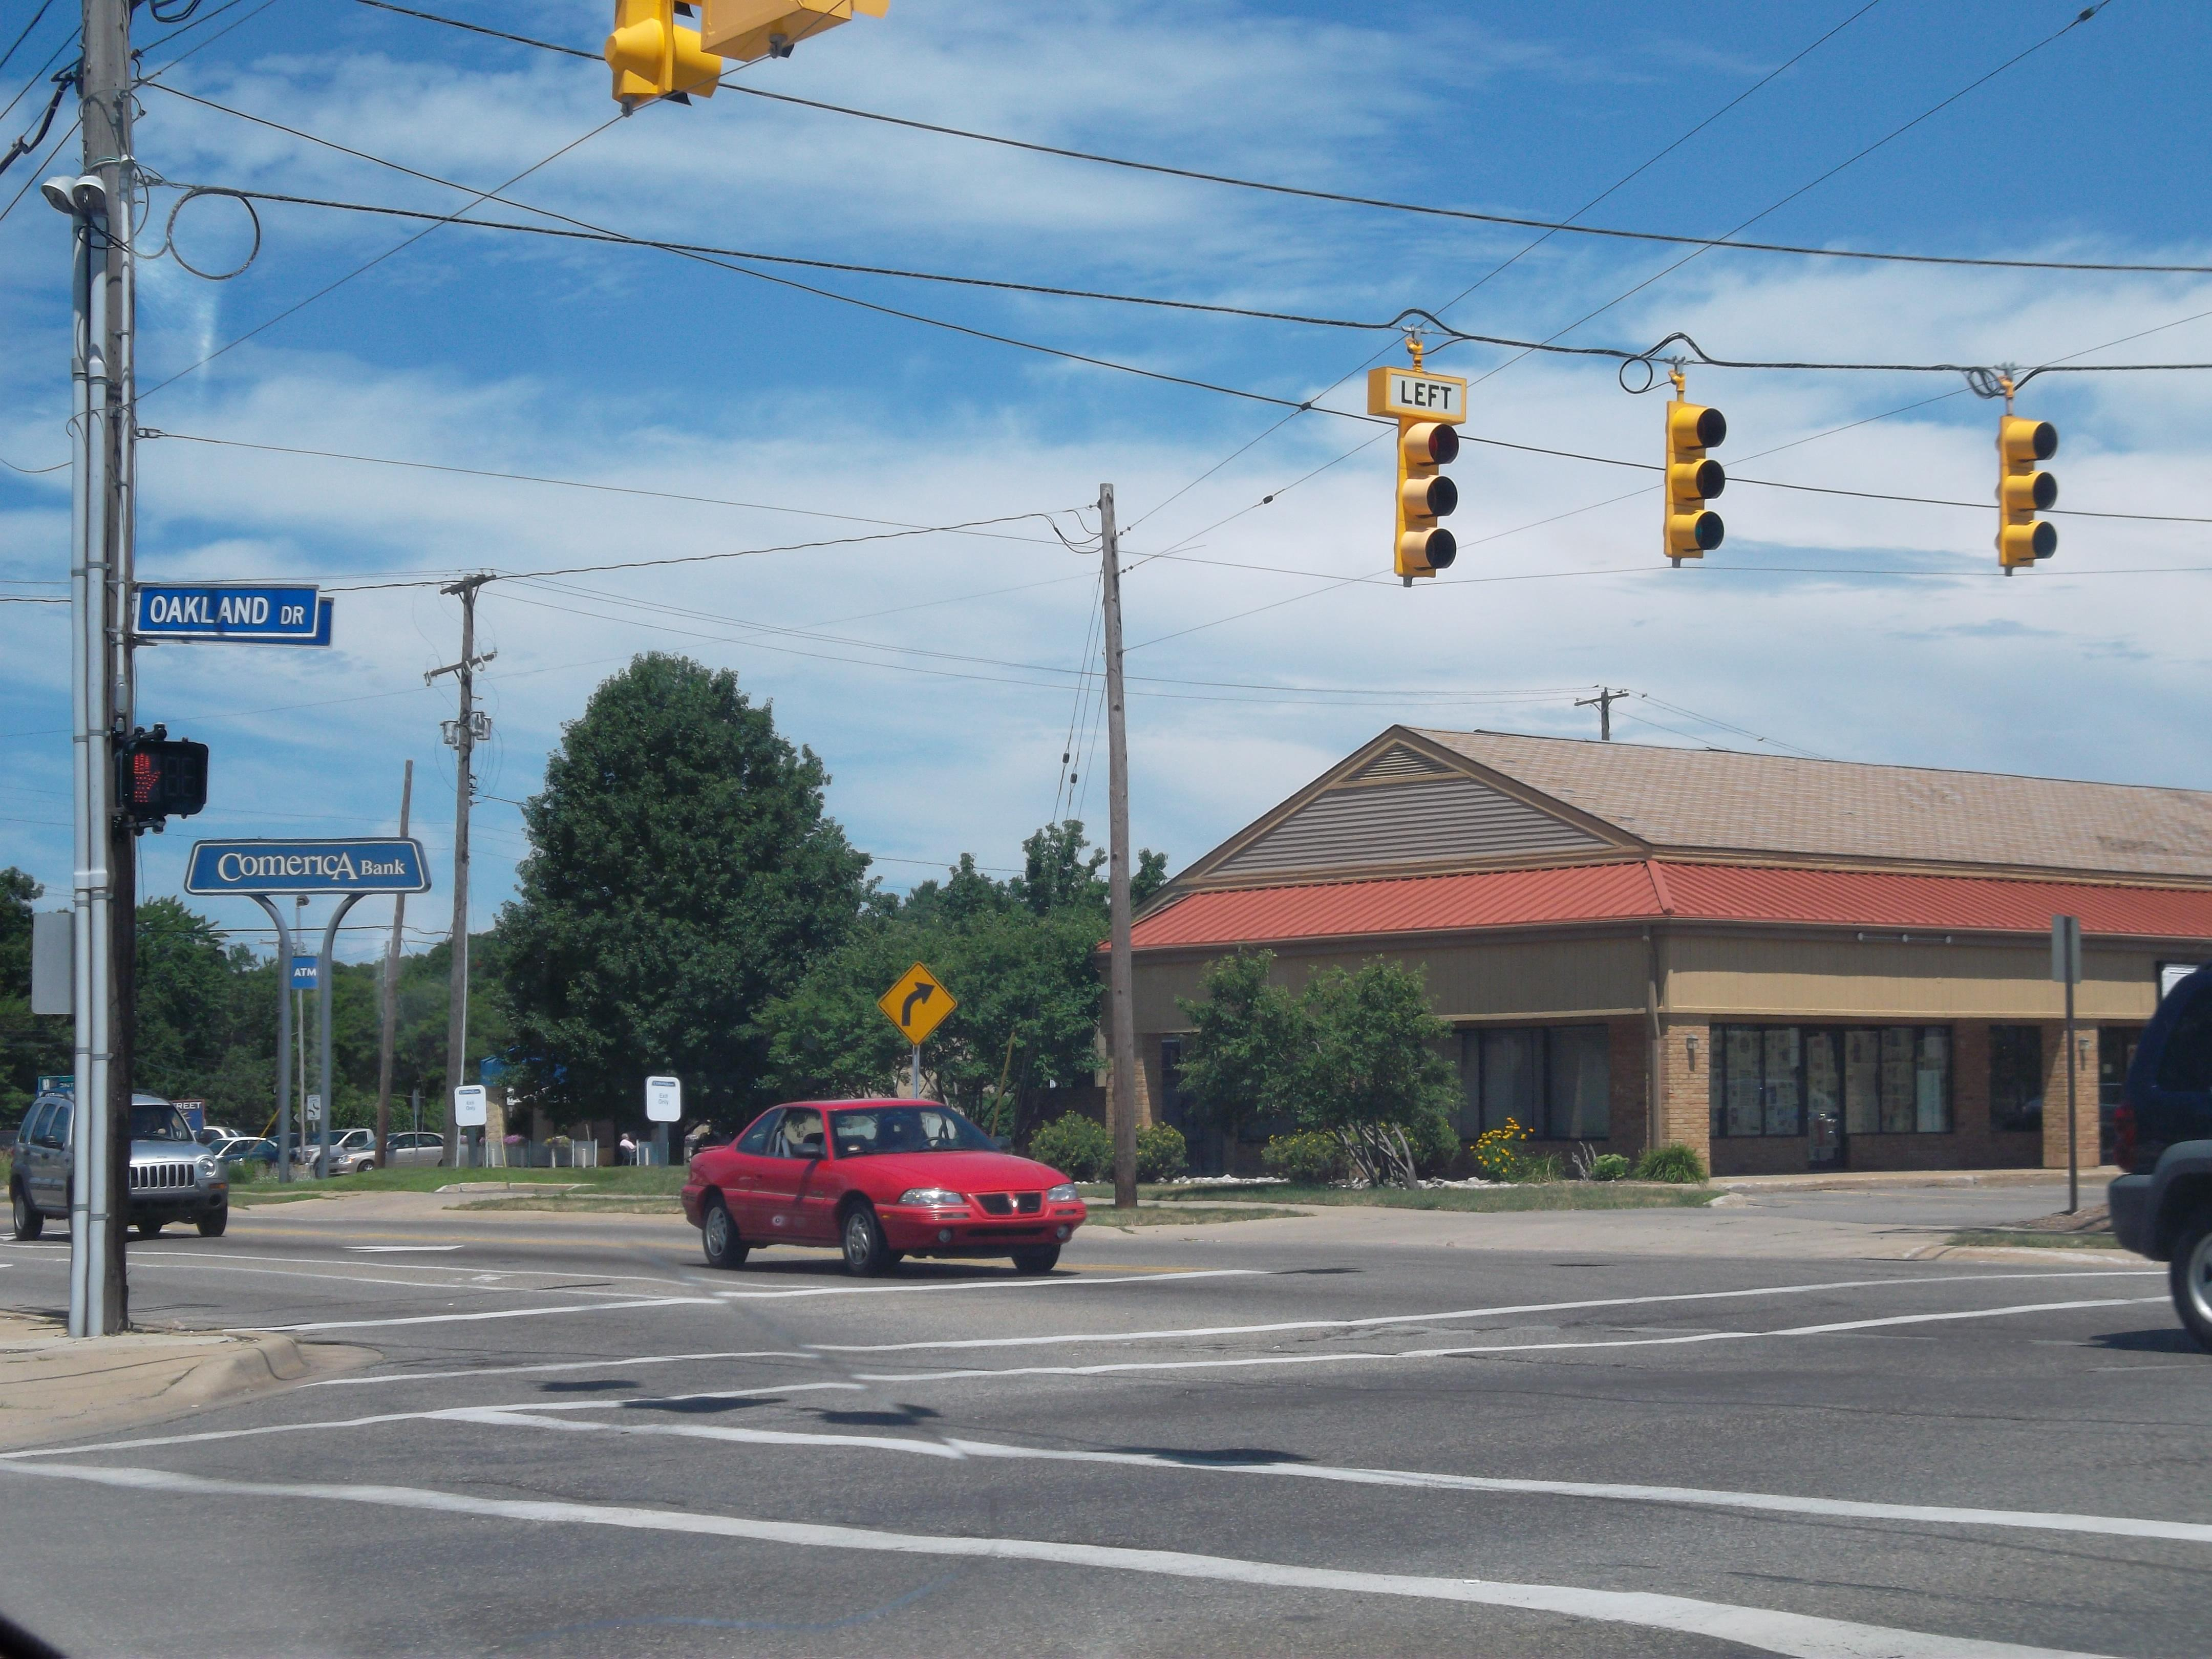regulatory: (307, 1093, 324, 1122)
warning: (867, 945, 965, 1060)
